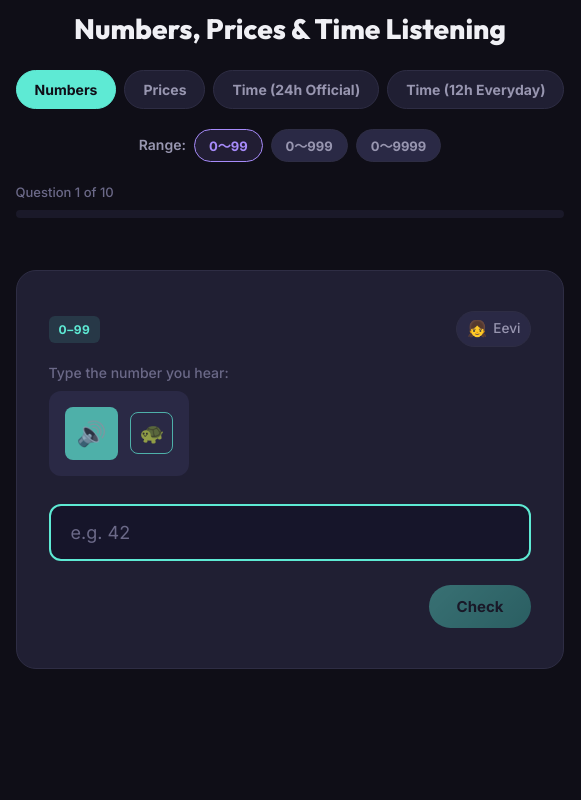
Test case: NumberPractice Page › marks wrong number as incorrect and shows the correct number and Finnish text
The width and height of the screenshot is (581, 800).
Type "99" into the field.
click(290, 532); type("99")  # box x1=48 y1=504 x2=531 y2=561
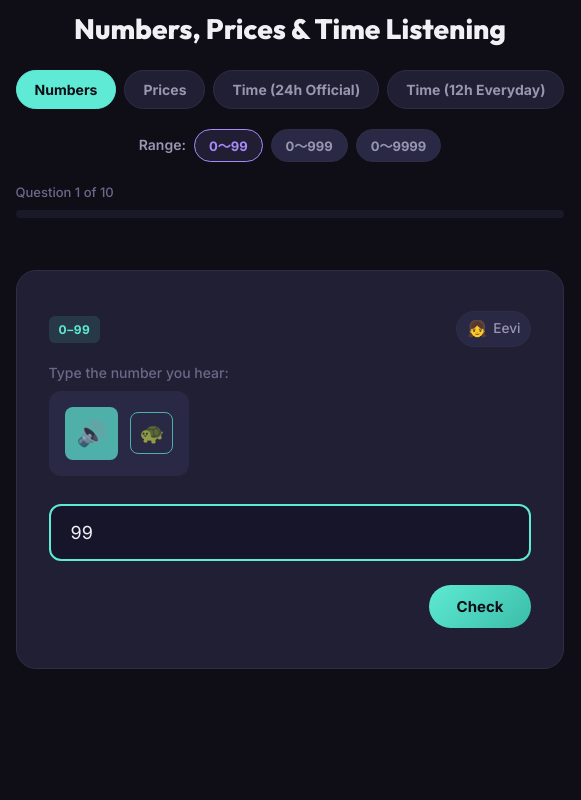
Press Enter in the field, box x1=48 y1=504 x2=531 y2=561
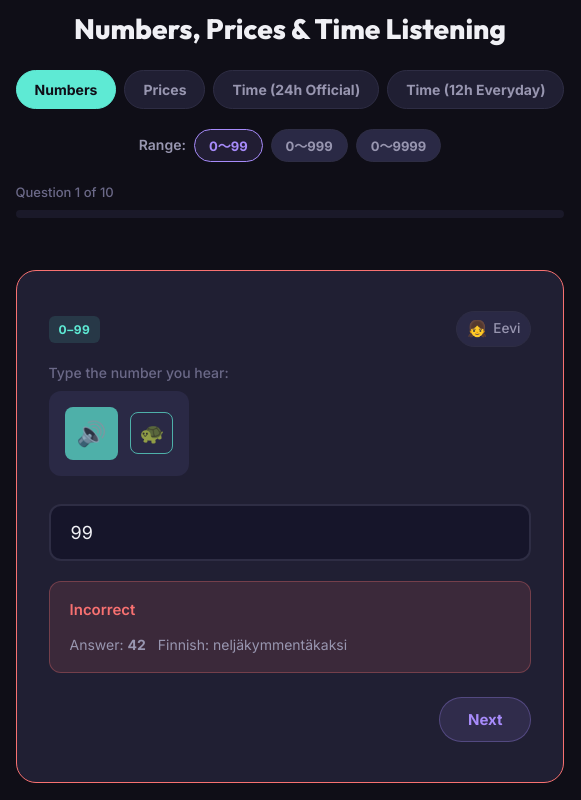
Now the text "Incorrect" is shown, box x1=70 y1=600 x2=135 y2=619
Now the text "42" is shown, box x1=128 y1=636 x2=146 y2=653
Now the text "Finnish: neljäkymmentäkaksi" is shown, box x1=158 y1=634 x2=347 y2=656
